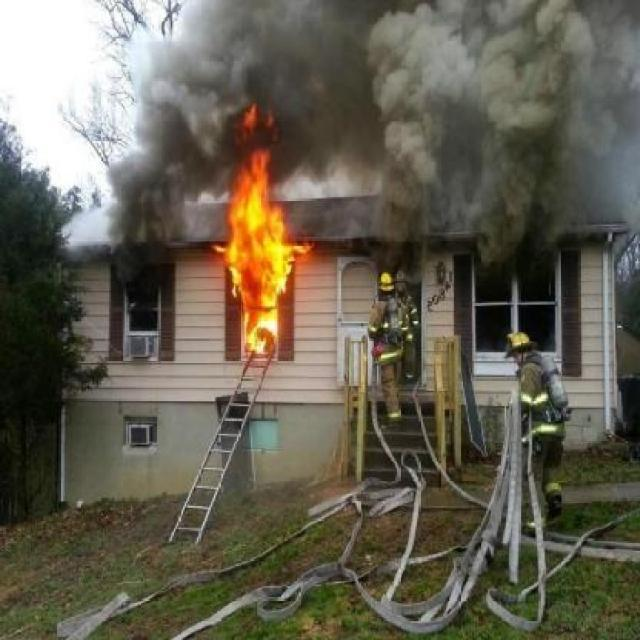Fire: (222, 135, 304, 365)
Smoke: (142, 18, 617, 190)
